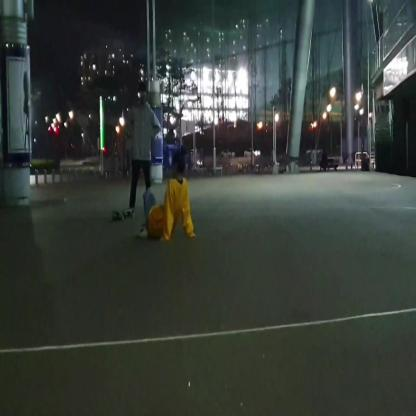Fall_Down: (138, 150, 197, 244)
